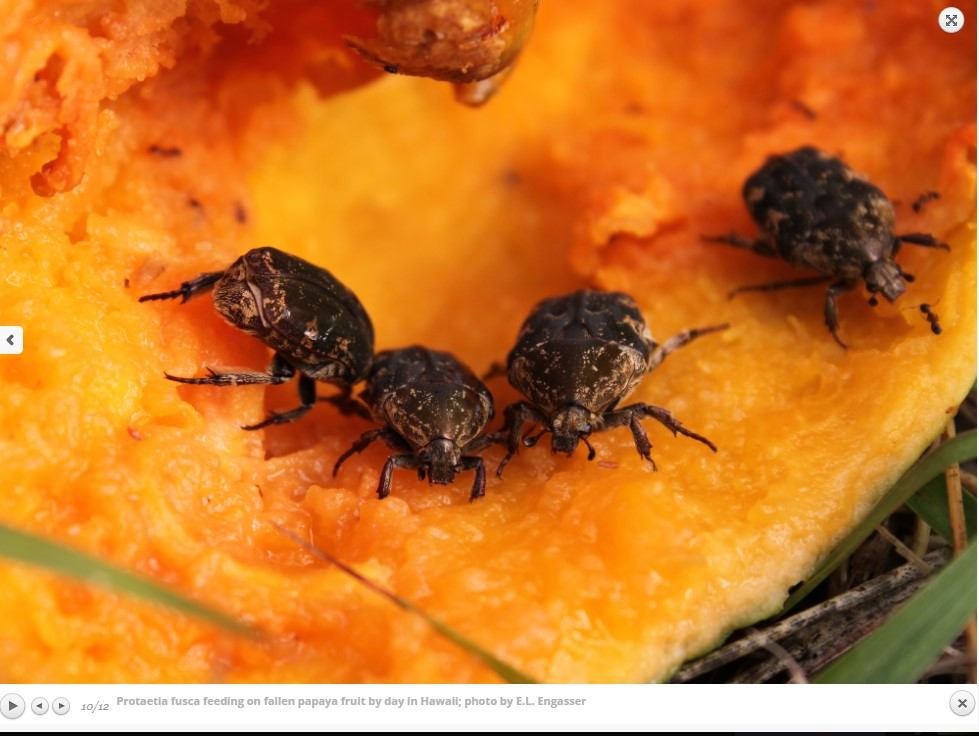Protaetia_fusca: (703, 143, 941, 351), (493, 270, 728, 476), (134, 241, 373, 438), (357, 321, 487, 506)
